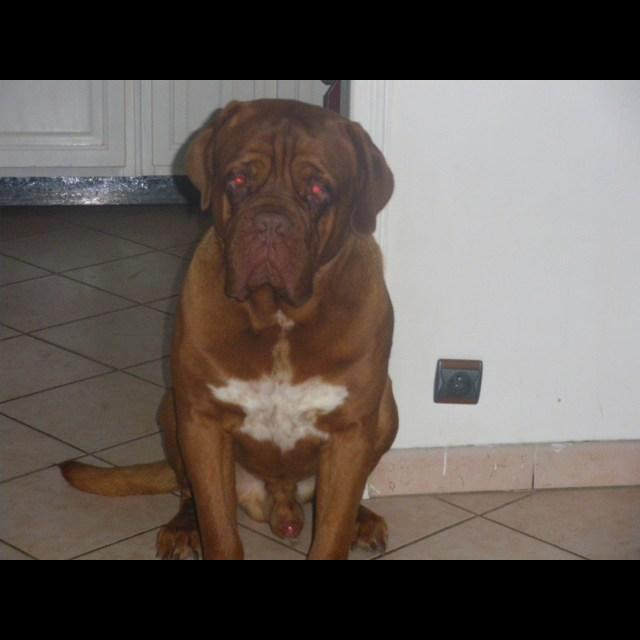dogue_de_bordeaux: (59, 98, 400, 561)
